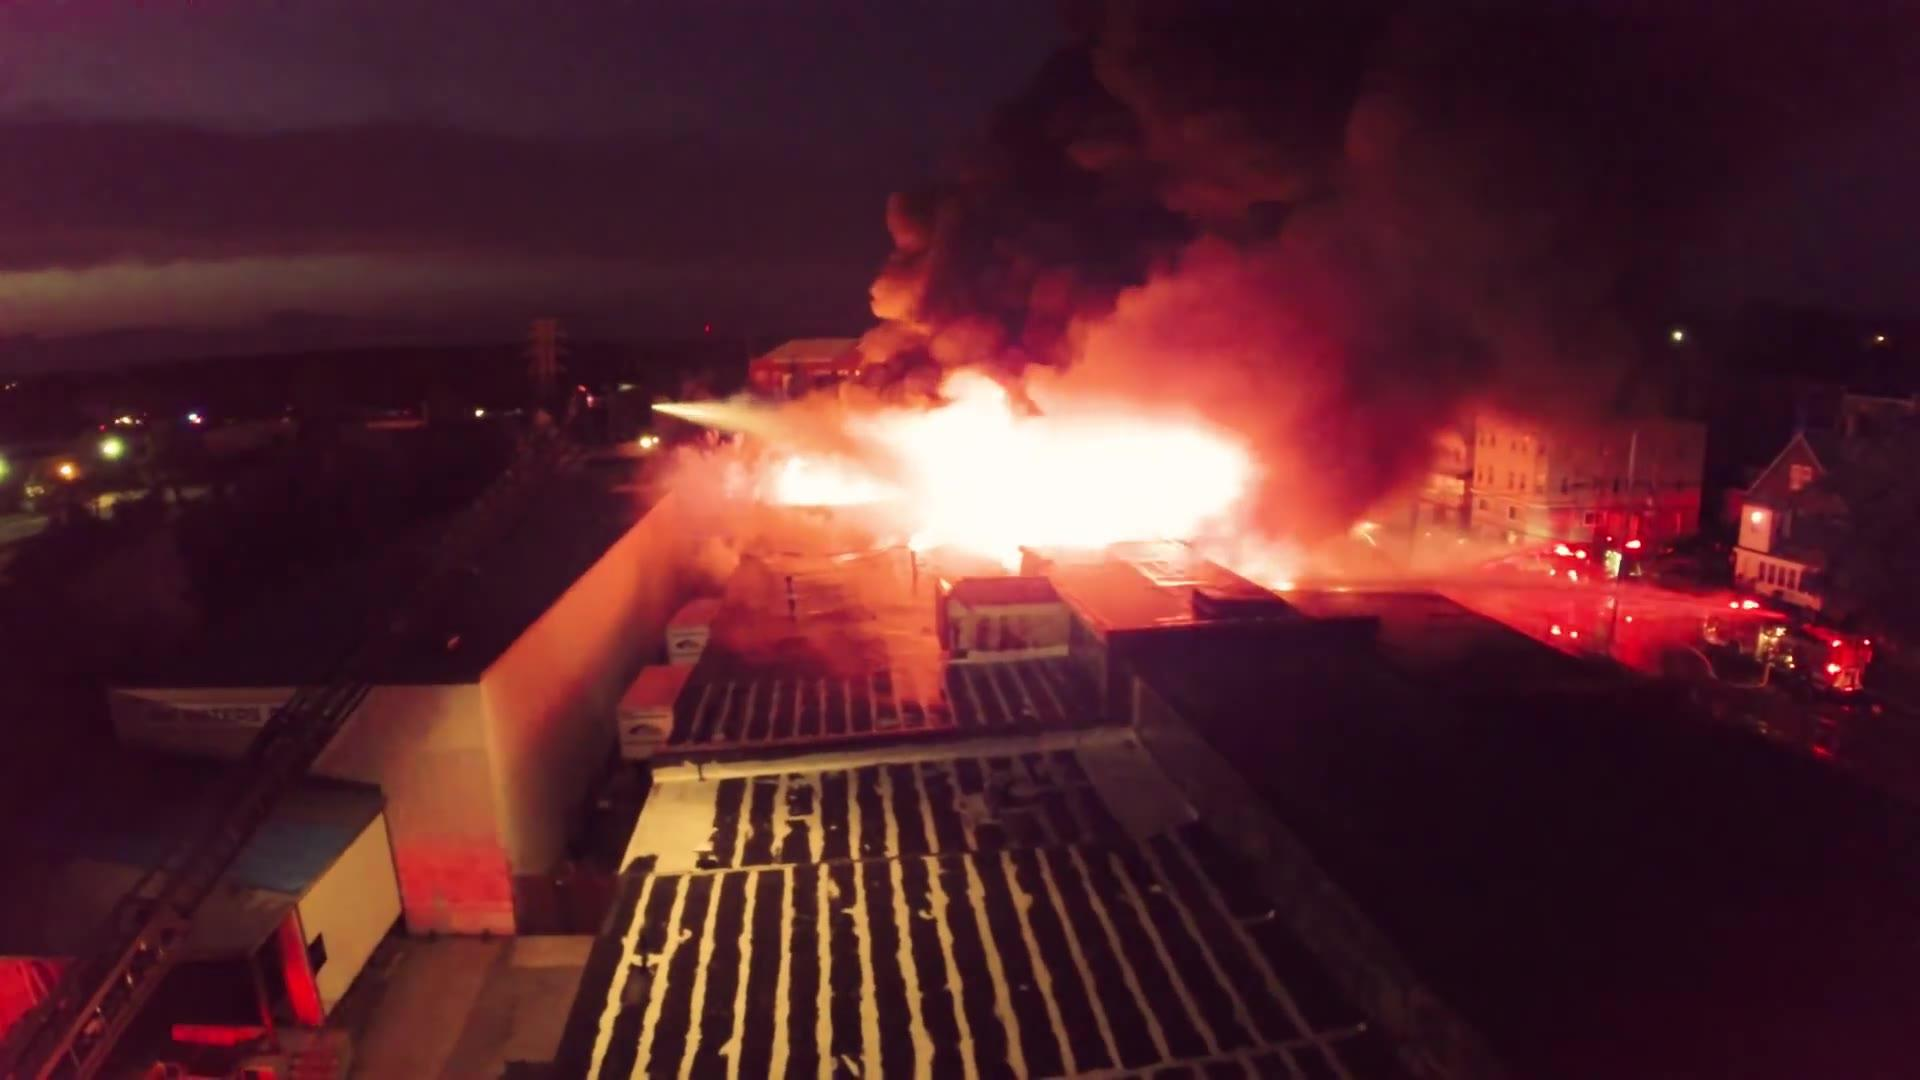fire: (835, 410, 1228, 572)
smoke: (1077, 28, 1597, 375)
